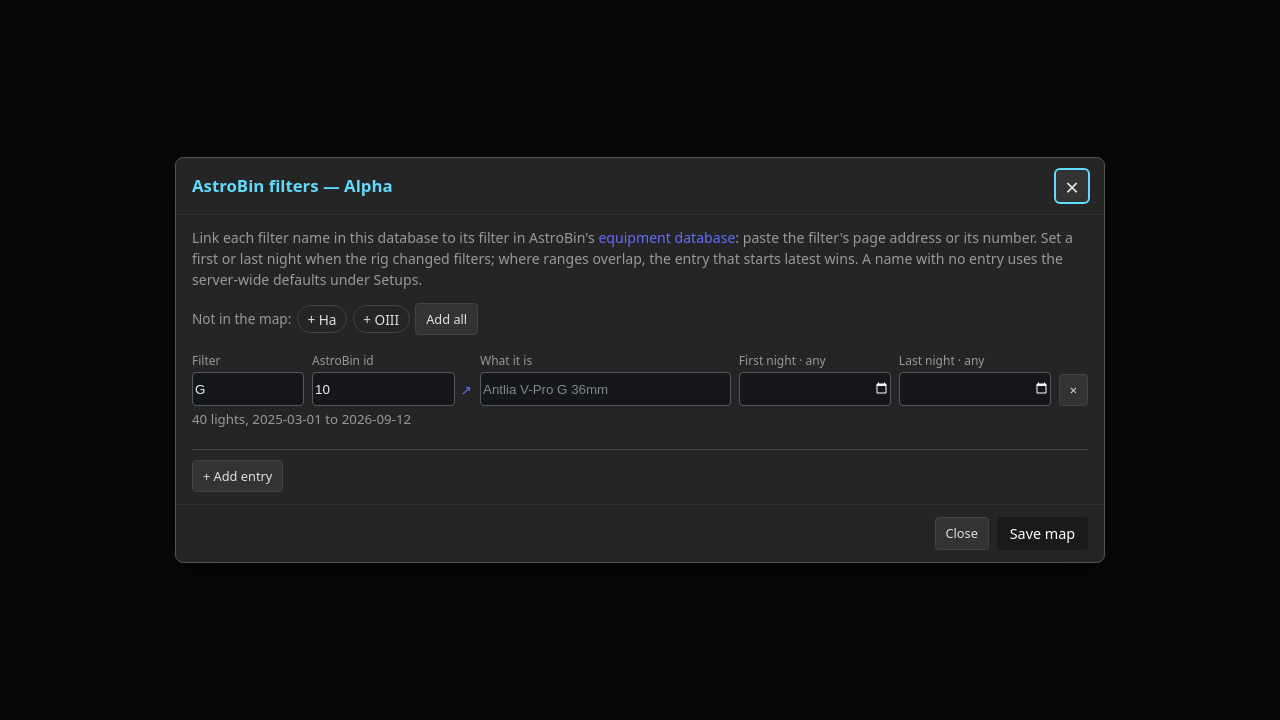
it: AstroBinFilterMapDialog › offers the catalog's filter names that have no entry, with the server-wide id
Expected: the text "40 lights, 2025-03-01 to 2026-09-12" is shown, [192,410,411,430]
Click the button with aria-label "Add Ha, 1 light on 2026-04-16": (322, 319) [297,305,347,333]
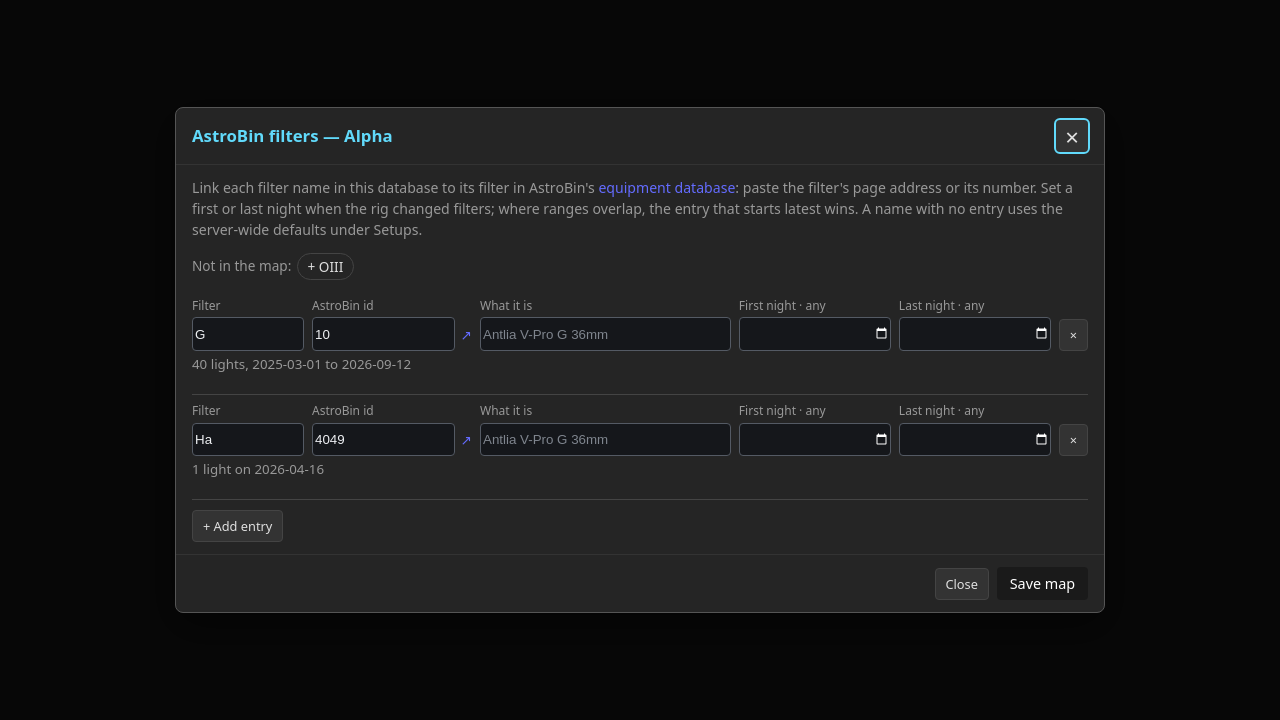
Expected: the button "Save map" is enabled, [997,567,1088,600]
Result: the field named "Filter name, row 2" holds "Ha" at [192,423,304,456]
Result: the field named "AstroBin id, row 2" holds "4049" at [312,423,455,456]
Click the button with aria-label "Add OIII, 12 lights, 2026-01-02 to 2026-02-03": (325, 266) [297,253,354,280]
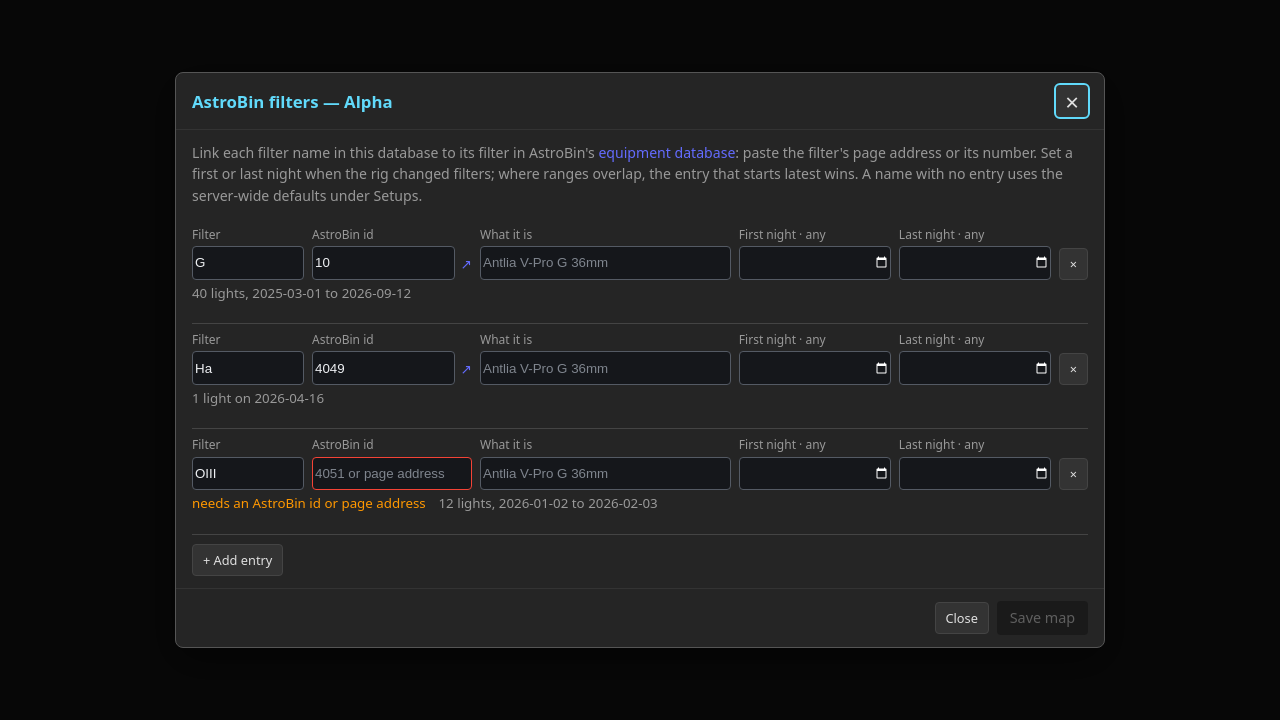
Result: the field named "Filter name, row 3" holds "OIII" at [192,457,304,490]
Result: the button "Save map" is disabled at [997,601,1088,635]
